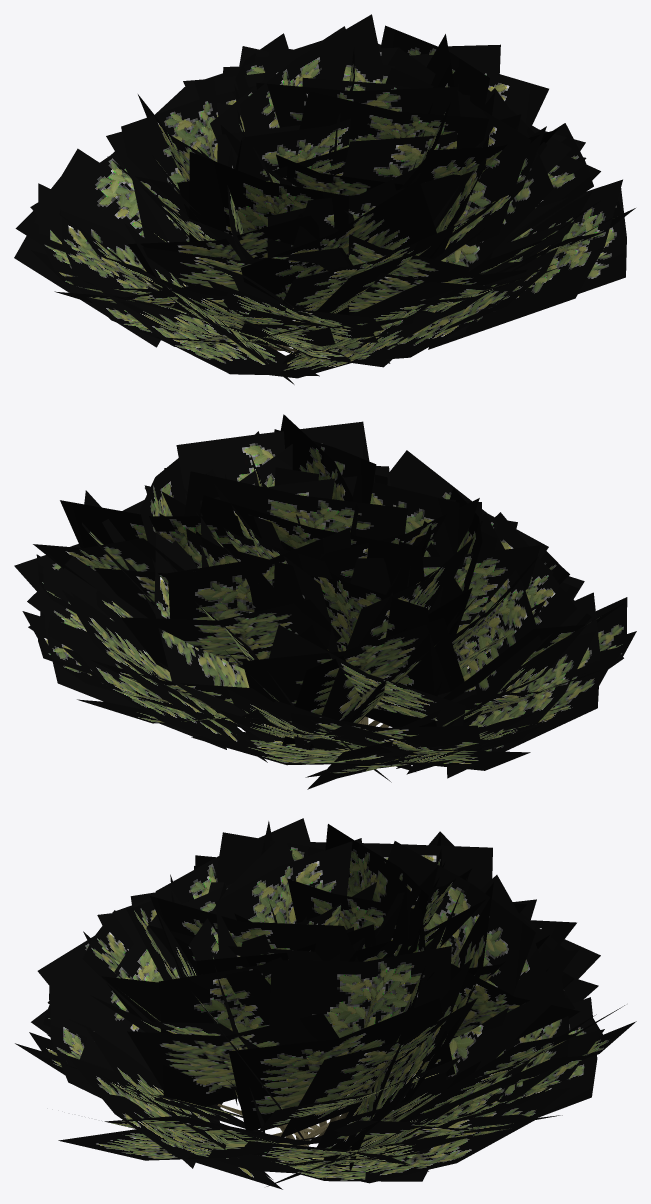
Rendered from shrub-2.glb.
The picture shows the model from 3 angles, top to bottom: view 1: azimuth 30°, elevation 25°; view 2: azimuth 150°, elevation 25°; view 3: azimuth 270°, elevation 25°; orthographic projection. The views are drawn at different scales.
Visible parts, largest first — view 1: shrub-2; view 2: shrub-2; view 3: shrub-2.
Boxes of the visible parts, left/top/right/bottom form: shrub-2: left=14, top=14, right=635, bottom=384; shrub-2: left=14, top=414, right=636, bottom=789; shrub-2: left=15, top=818, right=636, bottom=1189.
Bounding box in the file's own units: 2 × 0.98 × 1.79.
Materials: 2 (2 with a texture image).
